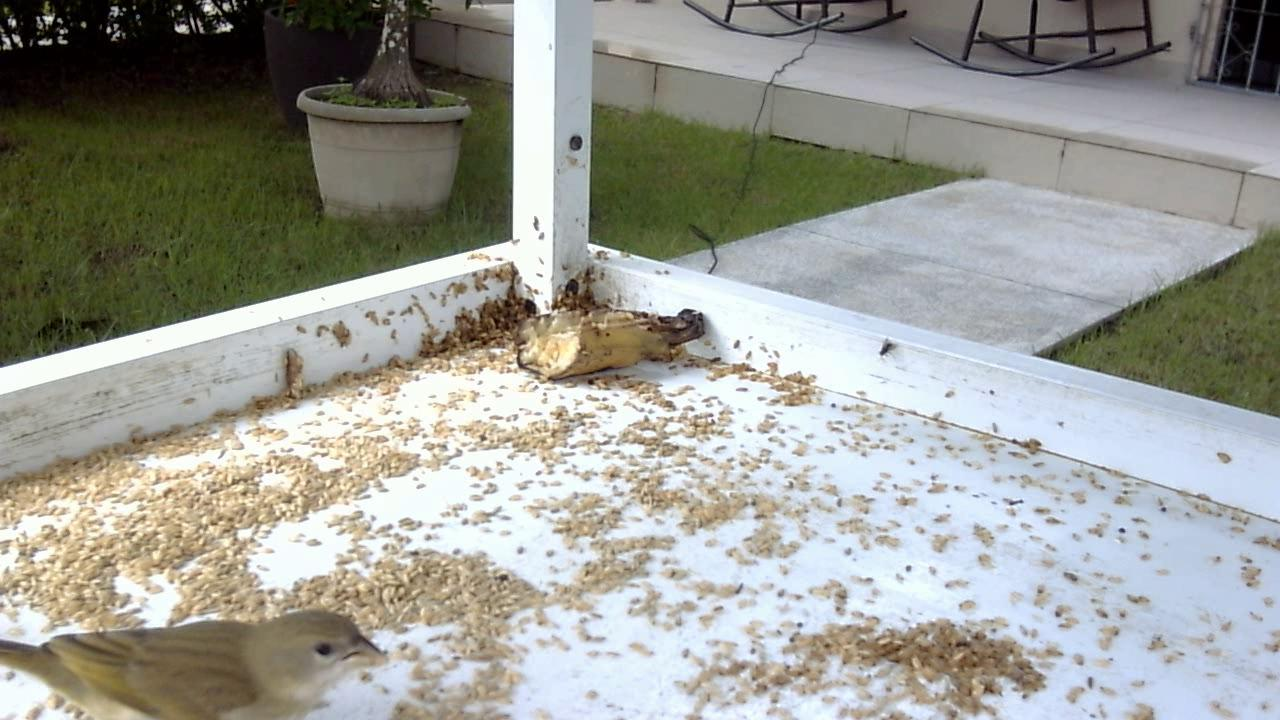canario_do_amazonas: (4, 598, 392, 715)
